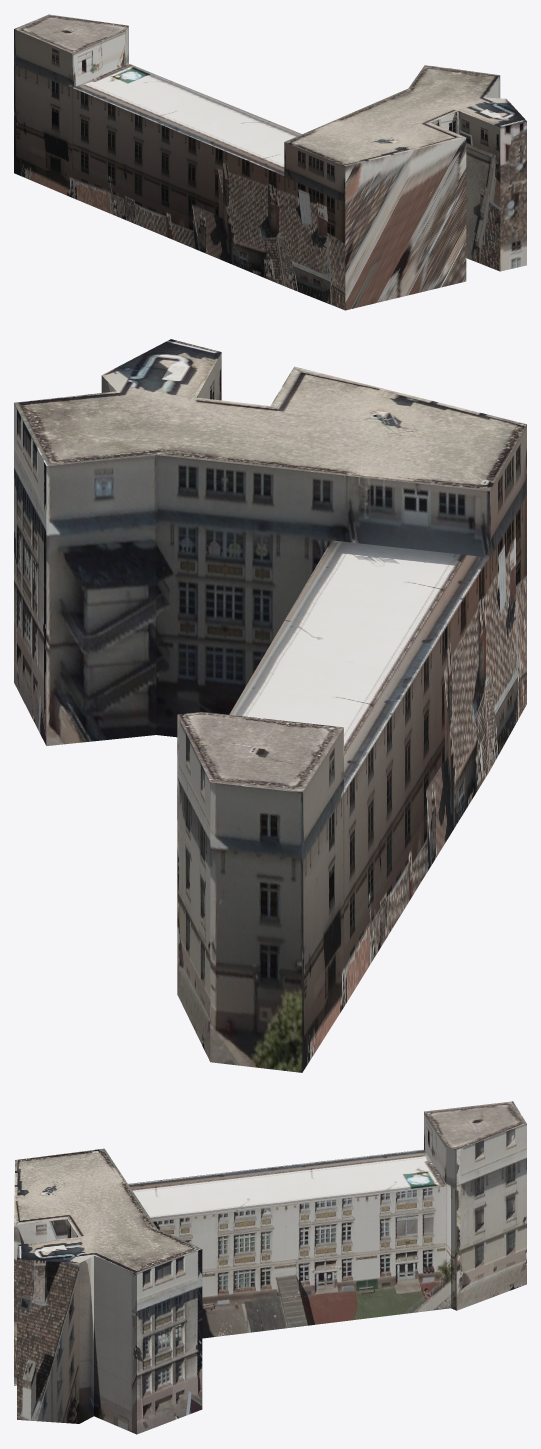
The picture shows the model from 3 angles, top to bottom: view 1: azimuth 30°, elevation 25°; view 2: azimuth 150°, elevation 25°; view 3: azimuth 270°, elevation 25°; orthographic projection. The views are drawn at different scales.
Parts seen in each view (by area): view 1: Z_UP; view 2: Z_UP; view 3: Z_UP.
Boxes of the visible parts, bbox=[...] form: Z_UP: bbox=[14, 14, 526, 310]; Z_UP: bbox=[14, 339, 526, 1072]; Z_UP: bbox=[14, 1101, 526, 1434].
Size of the model in its own units: 45.12 by 19.58 by 56.68.
2 materials, 1 textured.
